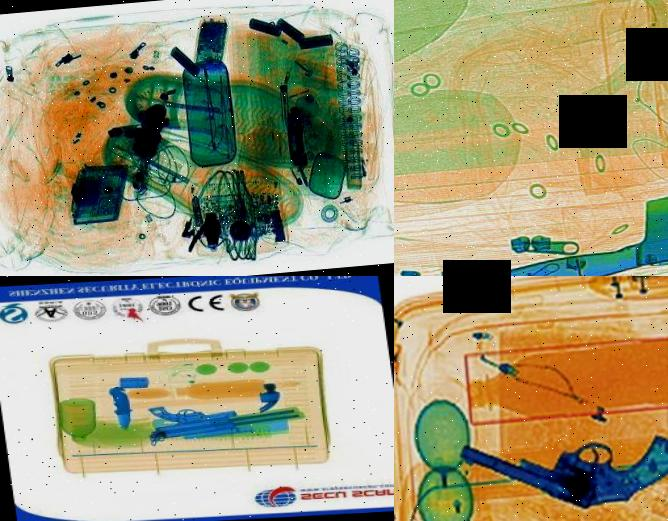Gun: (458, 422, 668, 517), (144, 396, 310, 439), (105, 99, 173, 162)
Knife: (457, 162, 668, 276), (108, 386, 136, 428)
